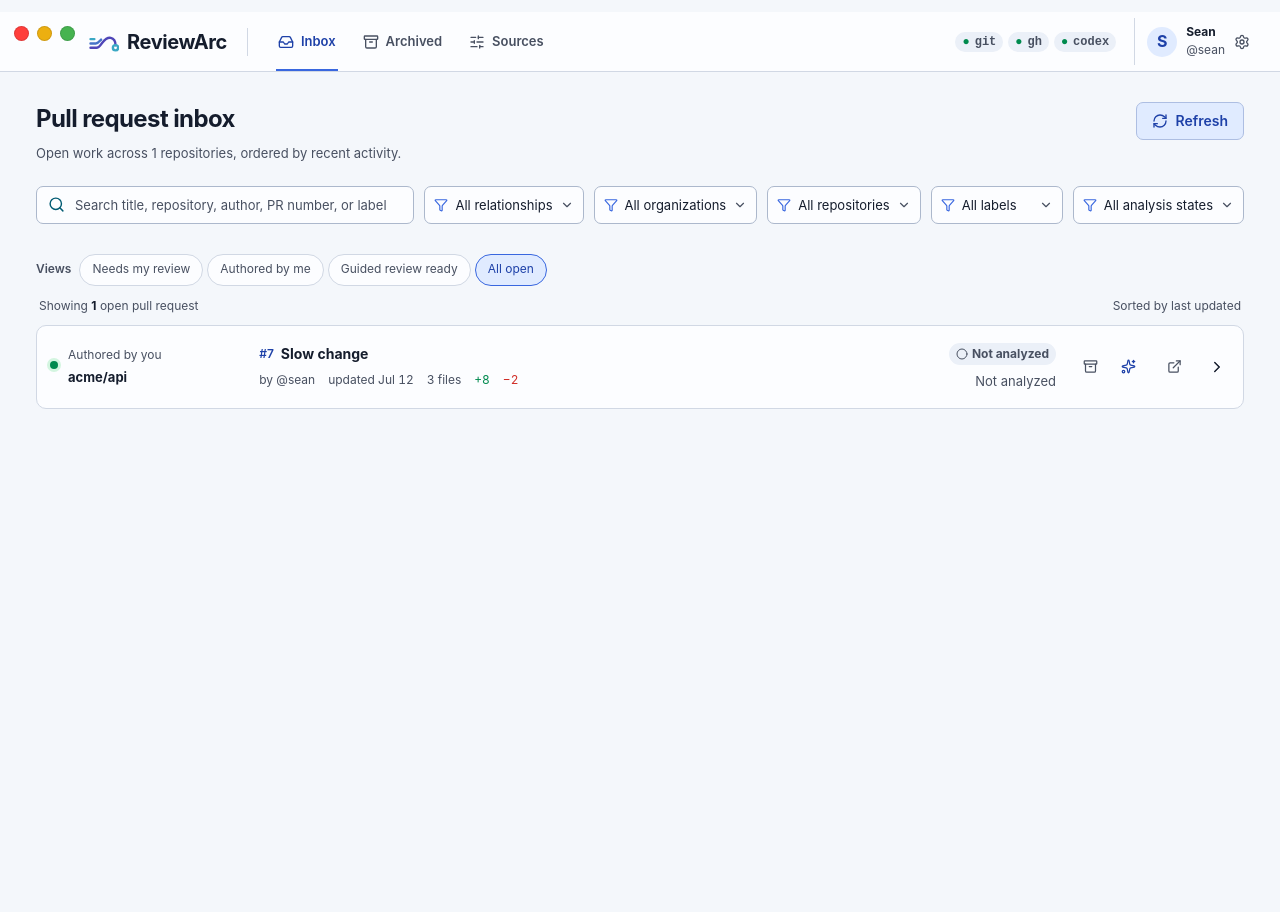
App startup › transitions immediately when pull request hydration is still running
Click the button "Slow change": point(115, 355) [37,326,1243,408]
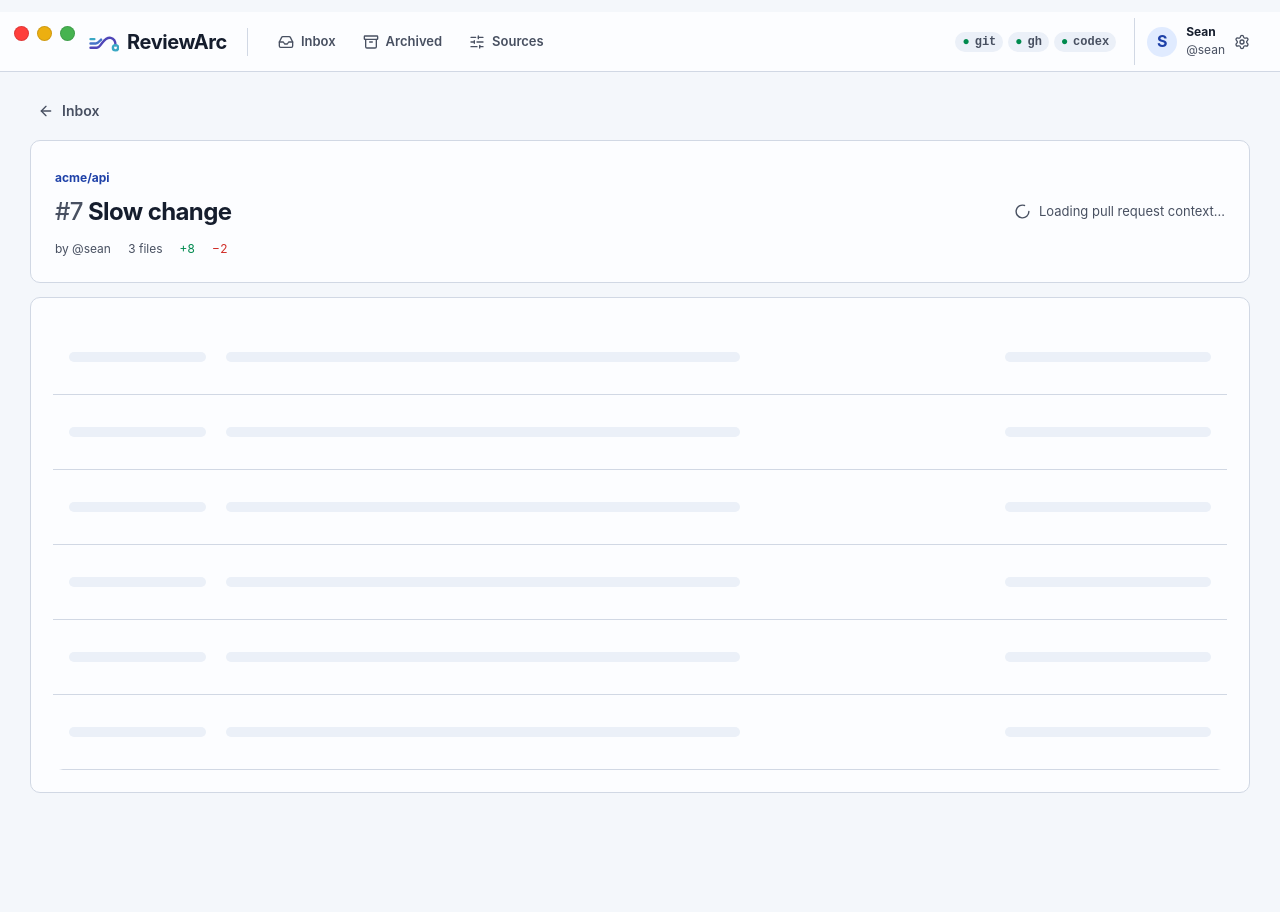
Now the text "Loading pull request context…" is shown, box [1039,202,1225,220]
Now the heading "#7 Slow change" is shown, box [55,195,232,229]
Now the heading "Pull request inbox" is gone
